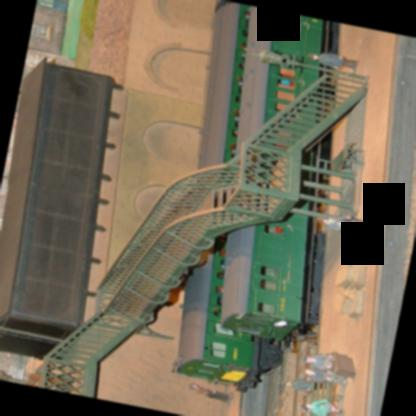suitcase: (332, 353, 354, 377)
